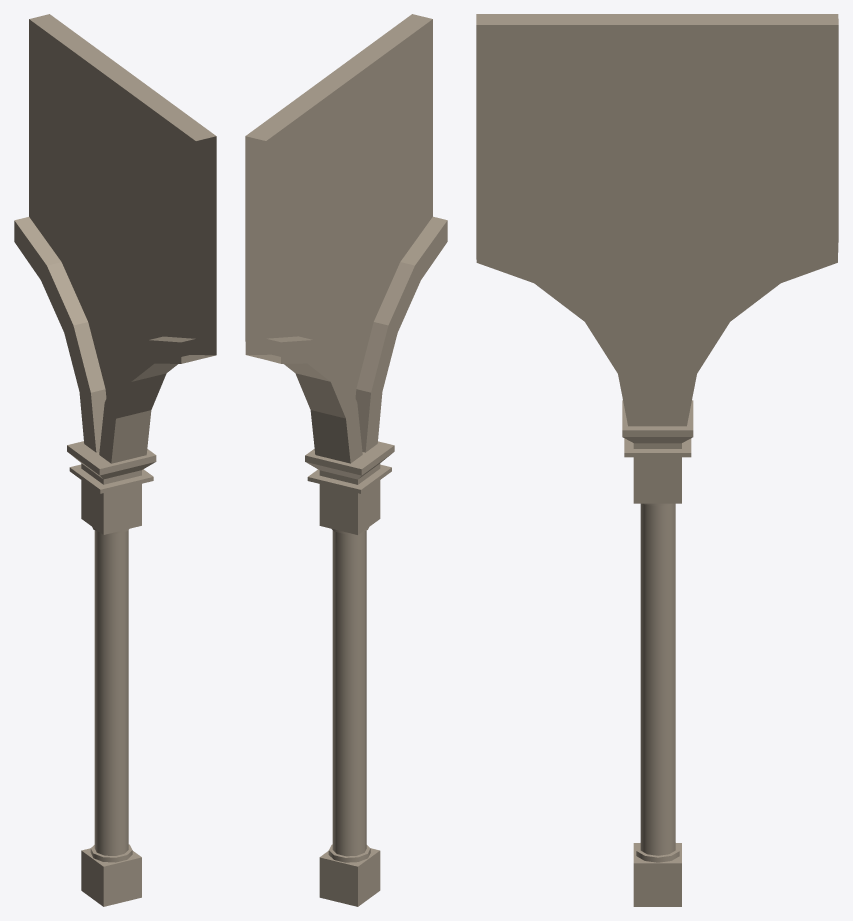
The model's file is SM_Pillar.FBX.
The picture shows the model from 3 angles, left to right: view 1: azimuth 30°, elevation 25°; view 2: azimuth 150°, elevation 25°; view 3: azimuth 270°, elevation 25°; orthographic projection. The views are drawn at different scales.
Parts seen in each view (by area): view 1: SM_Pillar; view 2: SM_Pillar; view 3: SM_Pillar.
Part boxes in pixels (x1=…): SM_Pillar: x1=14, y1=14, x2=216, y2=906; SM_Pillar: x1=245, y1=14, x2=447, y2=906; SM_Pillar: x1=476, y1=14, x2=838, y2=906.
Size of the model in its own units: 73.7 by 1011 by 376.
